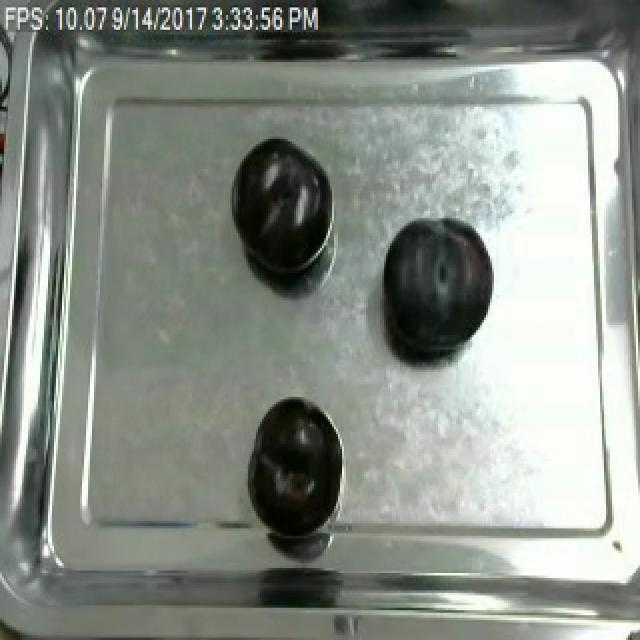Fruit: (374, 211, 498, 367), (228, 134, 330, 285), (248, 392, 338, 536)
